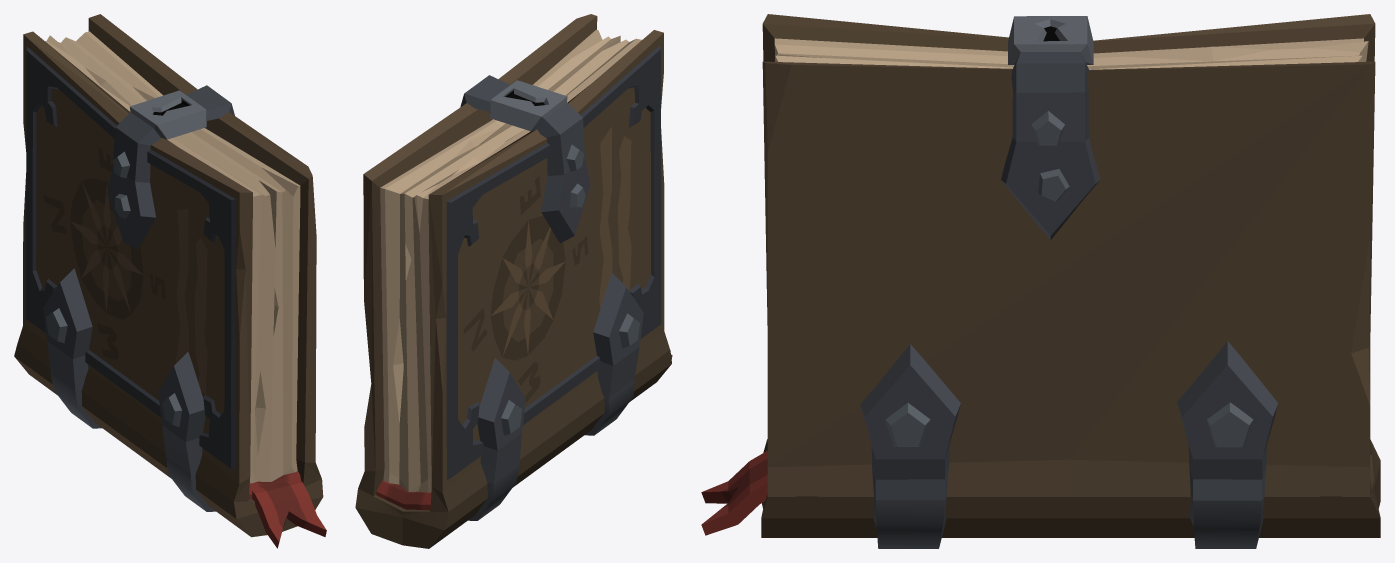
Rendered from SM_Prop_Book_06.fbx.
The picture shows the model from 3 angles, left to right: view 1: azimuth 30°, elevation 25°; view 2: azimuth 150°, elevation 25°; view 3: azimuth 270°, elevation 25°; orthographic projection. The views are drawn at different scales.
Visible parts, largest first — view 1: SM_Prop_Book_06_Front, SM_Prop_Book_06_Back, SM_Prop_Book_06; view 2: SM_Prop_Book_06_Front, SM_Prop_Book_06_Back, SM_Prop_Book_06; view 3: SM_Prop_Book_06_Back, SM_Prop_Book_06, SM_Prop_Book_06_Front.
Boxes of the visible parts, left/top/right/bottom form: SM_Prop_Book_06_Front: left=17, top=31, right=275, bottom=501; SM_Prop_Book_06_Back: left=66, top=14, right=321, bottom=486; SM_Prop_Book_06: left=14, top=344, right=326, bottom=548; SM_Prop_Book_06_Front: left=404, top=30, right=669, bottom=511; SM_Prop_Book_06_Back: left=358, top=14, right=620, bottom=496; SM_Prop_Book_06: left=355, top=350, right=672, bottom=548; SM_Prop_Book_06_Back: left=762, top=52, right=1375, bottom=501; SM_Prop_Book_06: left=701, top=439, right=1380, bottom=548; SM_Prop_Book_06_Front: left=762, top=14, right=1375, bottom=455.
Bounding box in the file's own units: 28.81 × 85.78 × 105.
